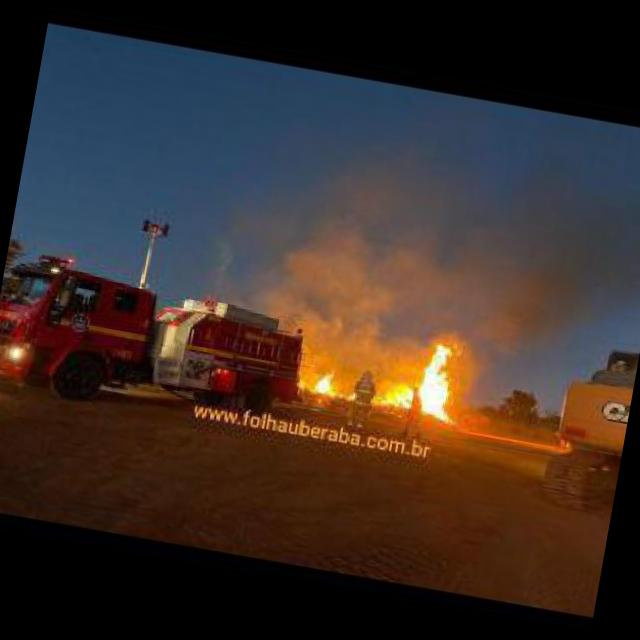fire: (381, 329, 470, 423), (314, 368, 342, 396), (348, 393, 357, 402)
smoke: (296, 194, 434, 383)
